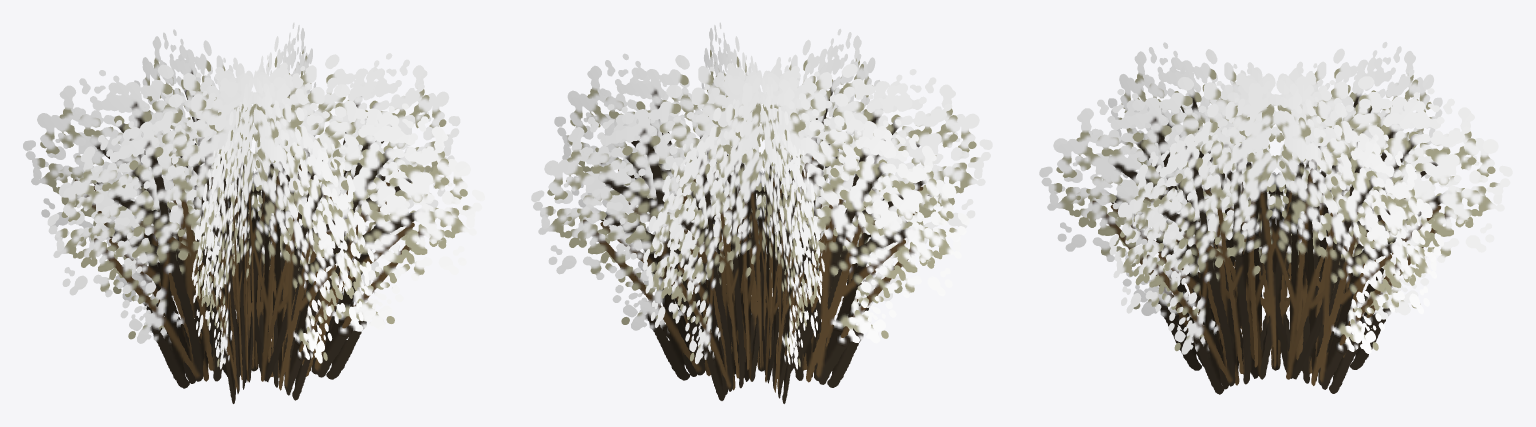
File: HP3_bush024 1.fbx
3 renders of one model, left to right at view 1: azimuth 30°, elevation 25°; view 2: azimuth 150°, elevation 25°; view 3: azimuth 270°, elevation 25°, orthographic.
Visible parts, largest first — view 1: HP3_bush024; view 2: HP3_bush024; view 3: HP3_bush024.
Boxes of the visible parts, x1,y1,x2,y2 form: HP3_bush024: (23,22,484,403); HP3_bush024: (531,22,992,403); HP3_bush024: (1039,42,1512,394).
Size of the model in its own units: 10.13 by 7.19 by 10.13.
